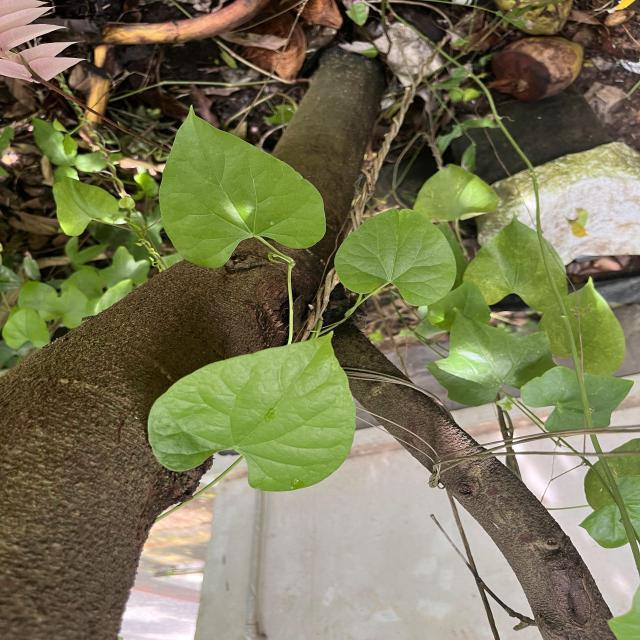Tinospora cordifolia: (145, 328, 358, 494), (158, 102, 328, 270), (332, 207, 458, 309)
